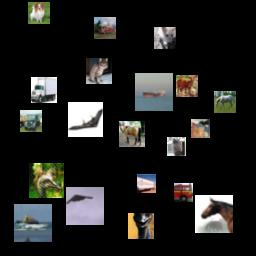airplane: (66, 187, 104, 225), (68, 102, 103, 137)
bird: (29, 163, 64, 198), (128, 213, 154, 239)
cat: (86, 58, 112, 84), (154, 27, 176, 49), (191, 119, 210, 138), (167, 137, 186, 156)
deer: (176, 75, 198, 97)
dog: (28, 2, 50, 24)
ship: (135, 73, 173, 111), (14, 204, 52, 242)
truck: (31, 77, 57, 103), (94, 17, 116, 39), (20, 110, 42, 132), (137, 174, 156, 193), (174, 183, 193, 202)
